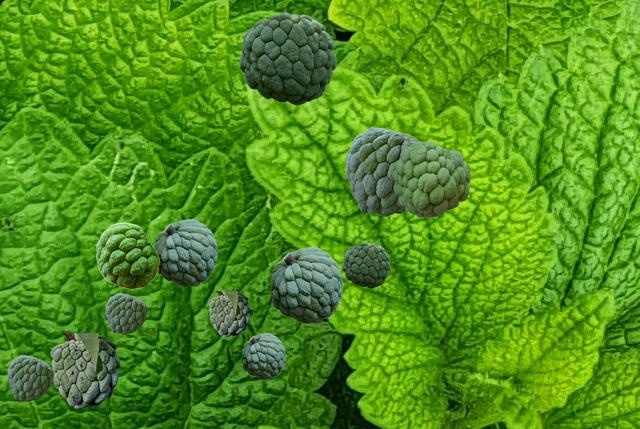atis: (239, 12, 335, 104), (50, 333, 156, 408), (345, 127, 419, 215), (392, 141, 469, 216), (271, 247, 341, 322), (154, 219, 216, 285), (96, 222, 158, 288), (208, 291, 272, 336), (342, 242, 389, 287), (7, 355, 52, 400), (242, 333, 284, 378), (105, 293, 146, 333)
